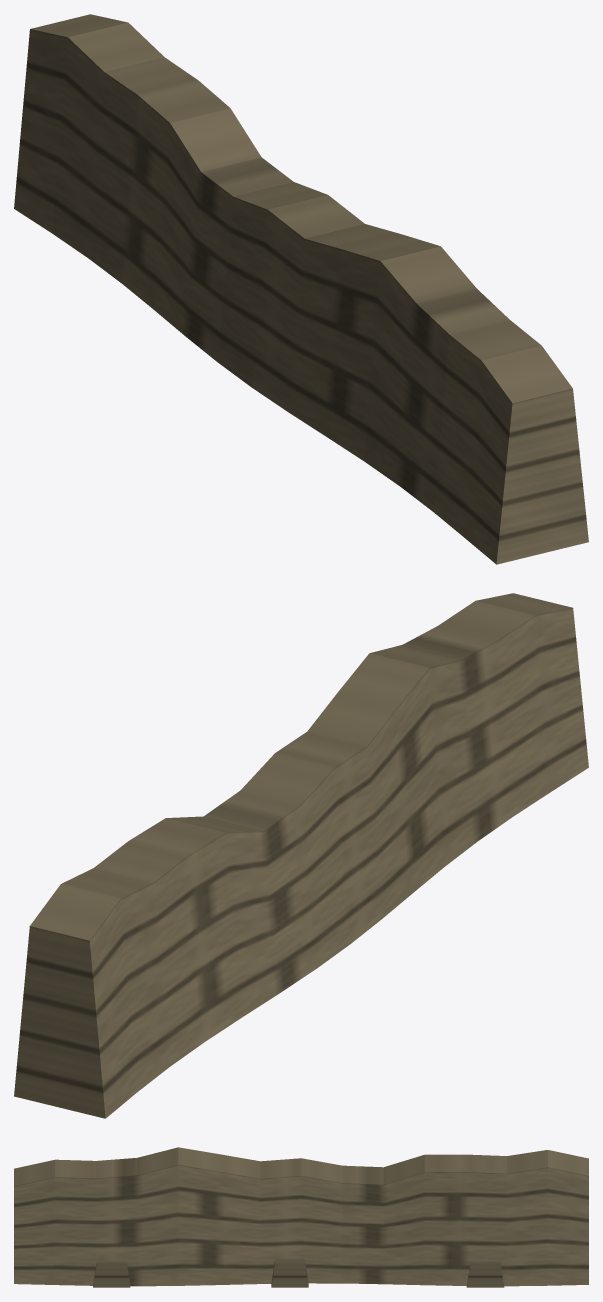
Rendered from wall-earth-lod0.glb.
The picture shows the model from 3 angles, top to bottom: view 1: azimuth 30°, elevation 25°; view 2: azimuth 150°, elevation 25°; view 3: azimuth 270°, elevation 25°; orthographic projection. The views are drawn at different scales.
Size of the model in its own units: 0.1273 by 0.2236 by 1.
Materials: 1 (1 with a texture image).
